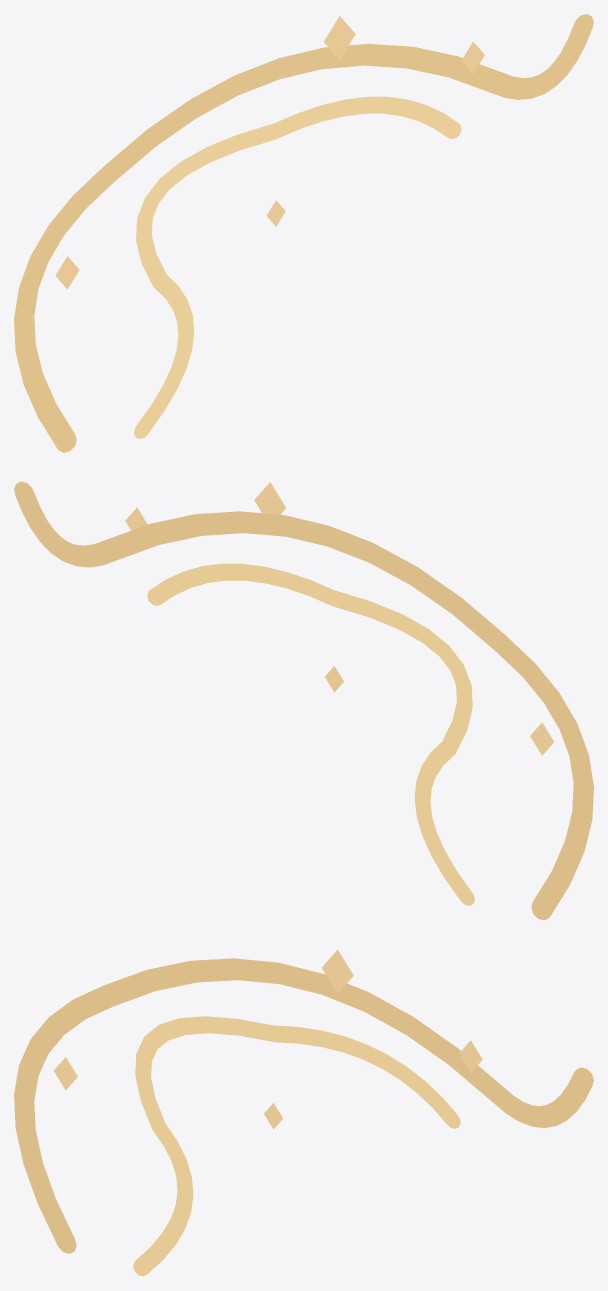
File: aroma.glb
The picture shows the model from 3 angles, top to bottom: view 1: azimuth 30°, elevation 25°; view 2: azimuth 150°, elevation 25°; view 3: azimuth 330°, elevation 25°; orthographic projection.
Parts seen in each view (by area): view 1: Miros auriu; view 2: Miros auriu; view 3: Miros auriu.
Part boxes in pixels (box(x1,y1,x2,y2)): Miros auriu: box(14, 14, 593, 452); Miros auriu: box(14, 481, 593, 920); Miros auriu: box(14, 949, 593, 1276).
Size of the model in its own units: 2.09 by 1.29 by 0.0081.
